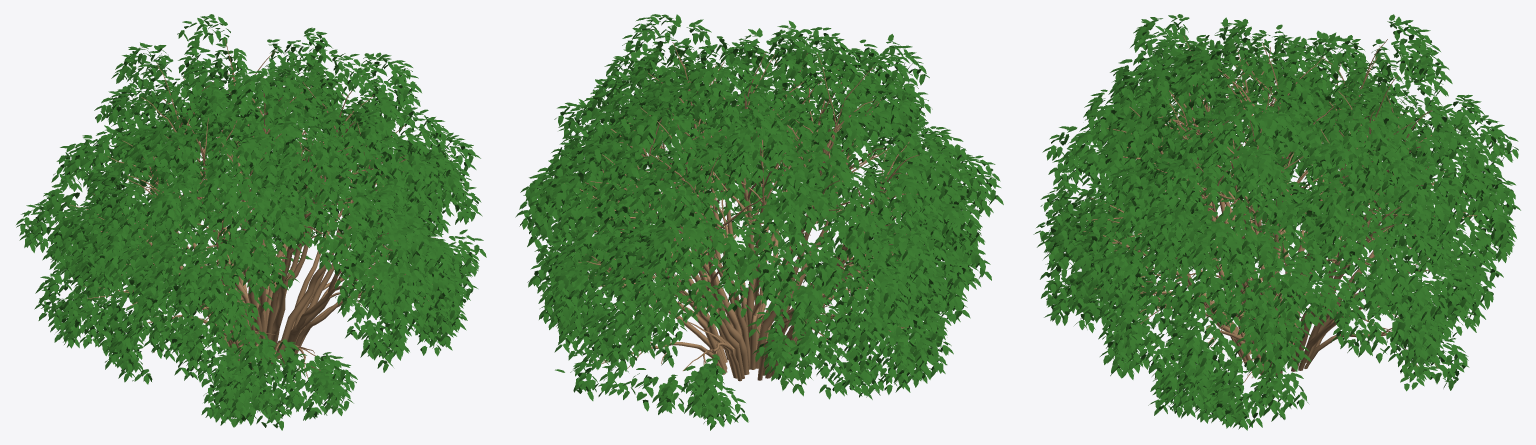
File: GroundBush.fbx
The picture shows the model from 3 angles, left to right: view 1: azimuth 30°, elevation 25°; view 2: azimuth 150°, elevation 25°; view 3: azimuth 270°, elevation 25°; orthographic projection. The views are drawn at different scales.
Visible parts, largest first — view 1: Open3dModel.com_Model (1); view 2: Open3dModel.com_Model (1); view 3: Open3dModel.com_Model (1).
Boxes of the visible parts, x1,y1,x2,y2 form: Open3dModel.com_Model (1): (16, 14, 486, 430); Open3dModel.com_Model (1): (515, 14, 1003, 430); Open3dModel.com_Model (1): (1033, 14, 1520, 430).
Size of the model in its own units: 15254 by 11270 by 15223.
